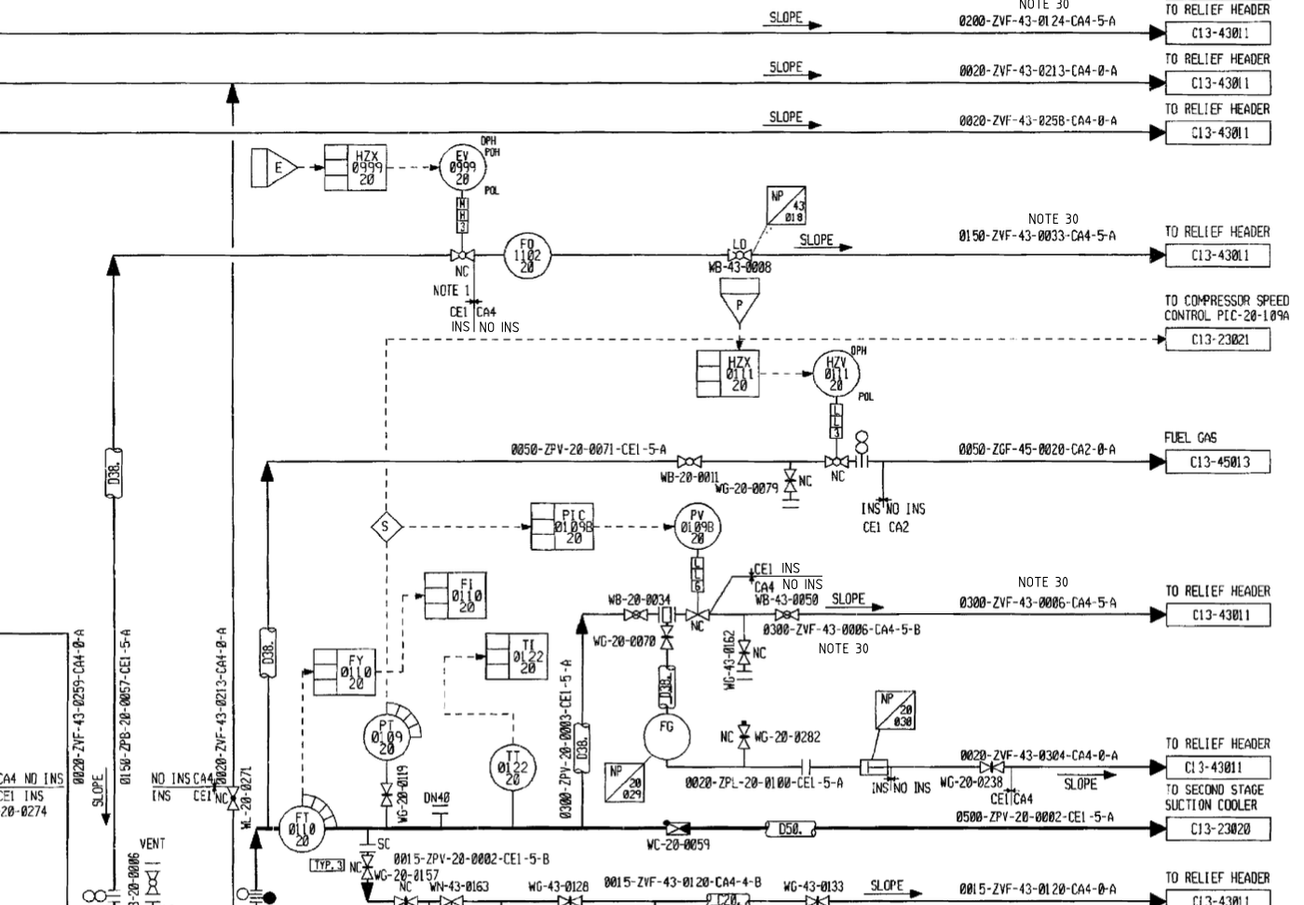Instrument: (482, 736, 541, 796), (500, 226, 558, 282), (435, 139, 491, 196), (359, 711, 419, 764), (808, 345, 863, 400), (277, 801, 331, 856), (670, 499, 725, 552)
Instrument-square: (544, 494, 600, 558), (714, 346, 765, 405), (332, 642, 380, 700), (444, 567, 491, 624), (507, 628, 551, 684)
